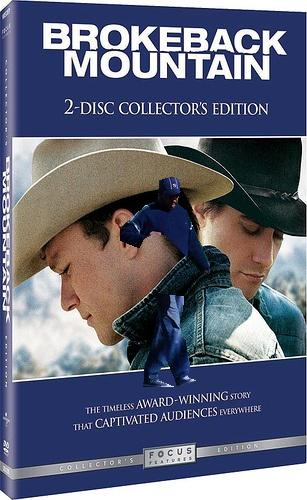tampered: (121, 178, 210, 387)
